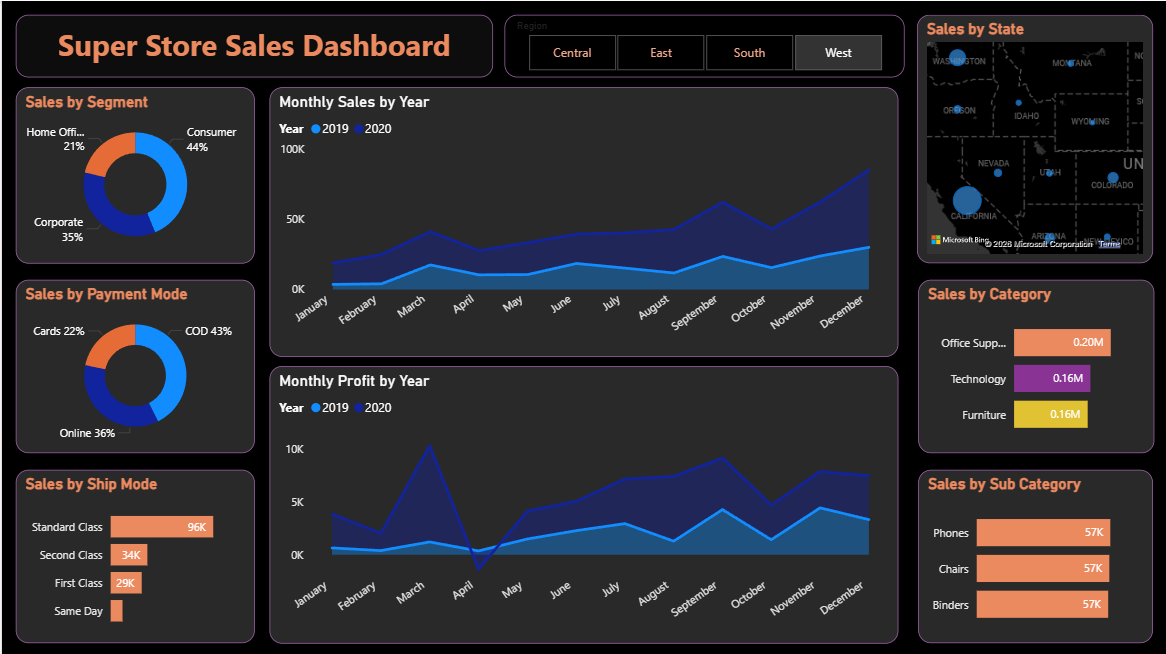

What the dashboard file says about the page in this screenshot:
{"tool":"powerbi","page":{"name":"Page 1","canvas":[1280,720],"ordinal":0},"visuals":[{"type":"clusteredBarChart","title":"Sales by Category","fields":{"Category":["SuperStore_Sales_Dataset.Category"],"Y":["Sum(SuperStore_Sales_Dataset.Sales)"]},"box":[1005.8,306,259.3,190.7],"z":0},{"type":"clusteredBarChart","title":"Sales by Ship Mode","fields":{"Category":["SuperStore_Sales_Dataset.Ship Mode"],"Y":["Sum(SuperStore_Sales_Dataset.Sales)"]},"box":[15.1,514.6,262.1,190.7],"z":1000},{"type":"clusteredBarChart","title":"Sales by Sub Category","fields":{"Category":["SuperStore_Sales_Dataset.Sub-Category","SuperStore_Sales_Dataset.Category"],"Y":["Sum(SuperStore_Sales_Dataset.Sales)"]},"box":[1005.8,514.6,258,190.7],"z":2000},{"type":"stackedAreaChart","title":"Monthly Sales by Year","fields":{"Y":["Sum(SuperStore_Sales_Dataset.Sales)"],"Series":["SuperStore_Sales_Dataset.Order Date.Variation.Date Hierarchy.Year"],"Category":["SuperStore_Sales_Dataset.Order Date.Variation.Date Hierarchy.Month"]},"box":[293.7,94.7,690.2,296.4],"z":3000},{"type":"stackedAreaChart","title":"Monthly Profit by Year","fields":{"Series":["SuperStore_Sales_Dataset.Order Date.Variation.Date Hierarchy.Year"],"Category":["SuperStore_Sales_Dataset.Order Date.Variation.Date Hierarchy.Month"],"Y":["Sum(SuperStore_Sales_Dataset.Profit)"]},"box":[293.7,400.7,690.2,304.6],"z":4000},{"type":"donutChart","title":"Sales by Segment","fields":{"Category":["SuperStore_Sales_Dataset.Segment"],"Y":["Sum(SuperStore_Sales_Dataset.Sales)"]},"box":[15.1,94.7,262.1,193.5],"z":5000},{"type":"donutChart","title":"Sales by Payment Mode","fields":{"Category":["SuperStore_Sales_Dataset.Payment Mode"],"Y":["Sum(SuperStore_Sales_Dataset.Sales)"]},"box":[15.1,306,262.1,190.7],"z":6000},{"type":"slicer","fields":{"Values":["SuperStore_Sales_Dataset.Region"]},"box":[551.6,15.1,439.1,68.6],"z":7000},{"type":"textbox","box":[15.1,15.1,524.2,68.6],"z":8000},{"type":"map","title":"Sales by State","fields":{"Size":["Sum(SuperStore_Sales_Dataset.Sales)"],"Category":["SuperStore_Sales_Dataset.State"]},"box":[1004.5,15.1,259.3,273.1],"z":8001}]}

Visuals, with their boxes in screenshot pixels (x1, y1, x2, y2), scaled from the page's 1280x720 canvas onto the 1166x654 screenshot:
"Sales by Category" clusteredBarChart: {"left": 916, "top": 278, "right": 1152, "bottom": 451}
"Sales by Ship Mode" clusteredBarChart: {"left": 14, "top": 467, "right": 253, "bottom": 641}
"Sales by Sub Category" clusteredBarChart: {"left": 916, "top": 467, "right": 1151, "bottom": 641}
"Monthly Sales by Year" stackedAreaChart: {"left": 268, "top": 86, "right": 896, "bottom": 355}
"Monthly Profit by Year" stackedAreaChart: {"left": 268, "top": 364, "right": 896, "bottom": 641}
"Sales by Segment" donutChart: {"left": 14, "top": 86, "right": 253, "bottom": 262}
"Sales by Payment Mode" donutChart: {"left": 14, "top": 278, "right": 253, "bottom": 451}
slicer - SuperStore_Sales_Dataset.Region: {"left": 502, "top": 14, "right": 902, "bottom": 76}
textbox: {"left": 14, "top": 14, "right": 491, "bottom": 76}
"Sales by State" map: {"left": 915, "top": 14, "right": 1151, "bottom": 262}
